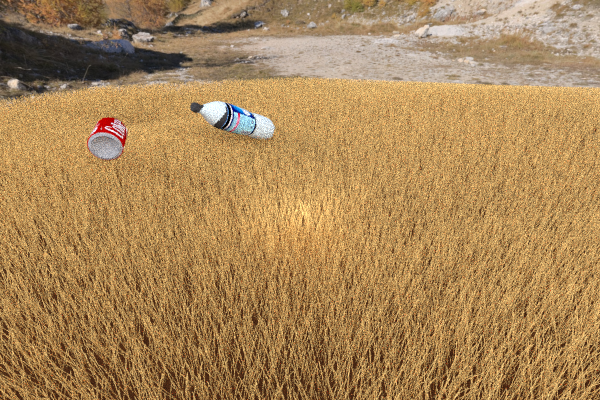bottle: (190, 101, 275, 140)
can: (87, 117, 127, 160)
